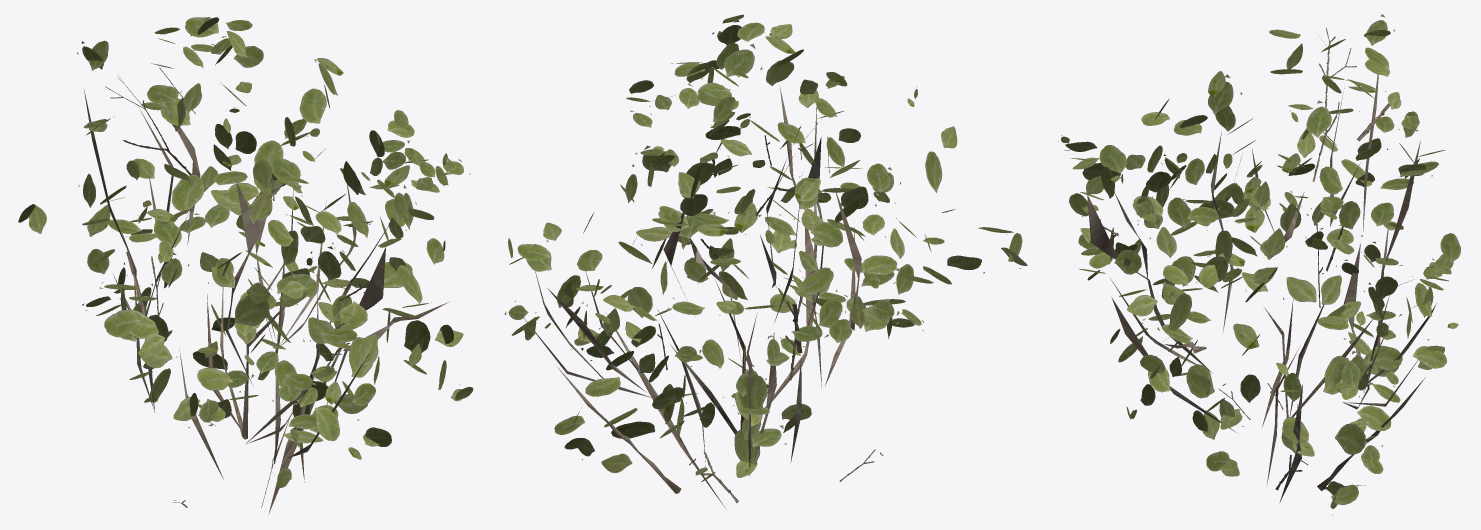
File: bush_green_a.glb
3 views of the same model, side by side, from view 1: azimuth 30°, elevation 25°; view 2: azimuth 150°, elevation 25°; view 3: azimuth 270°, elevation 25° (orthographic). The views are drawn at different scales.
Parts seen in each view (by area): view 1: bush_green_a; view 2: bush_green_a; view 3: bush_green_a.
Part boxes in pixels (x1=…): bush_green_a: x1=18, y1=17, x2=473, y2=514; bush_green_a: x1=504, y1=14, x2=1027, y2=508; bush_green_a: x1=1058, y1=14, x2=1460, y2=515.
Size of the model in its own units: 1.67 by 2.1 by 1.68.
Materials: 2 (2 with a texture image).
